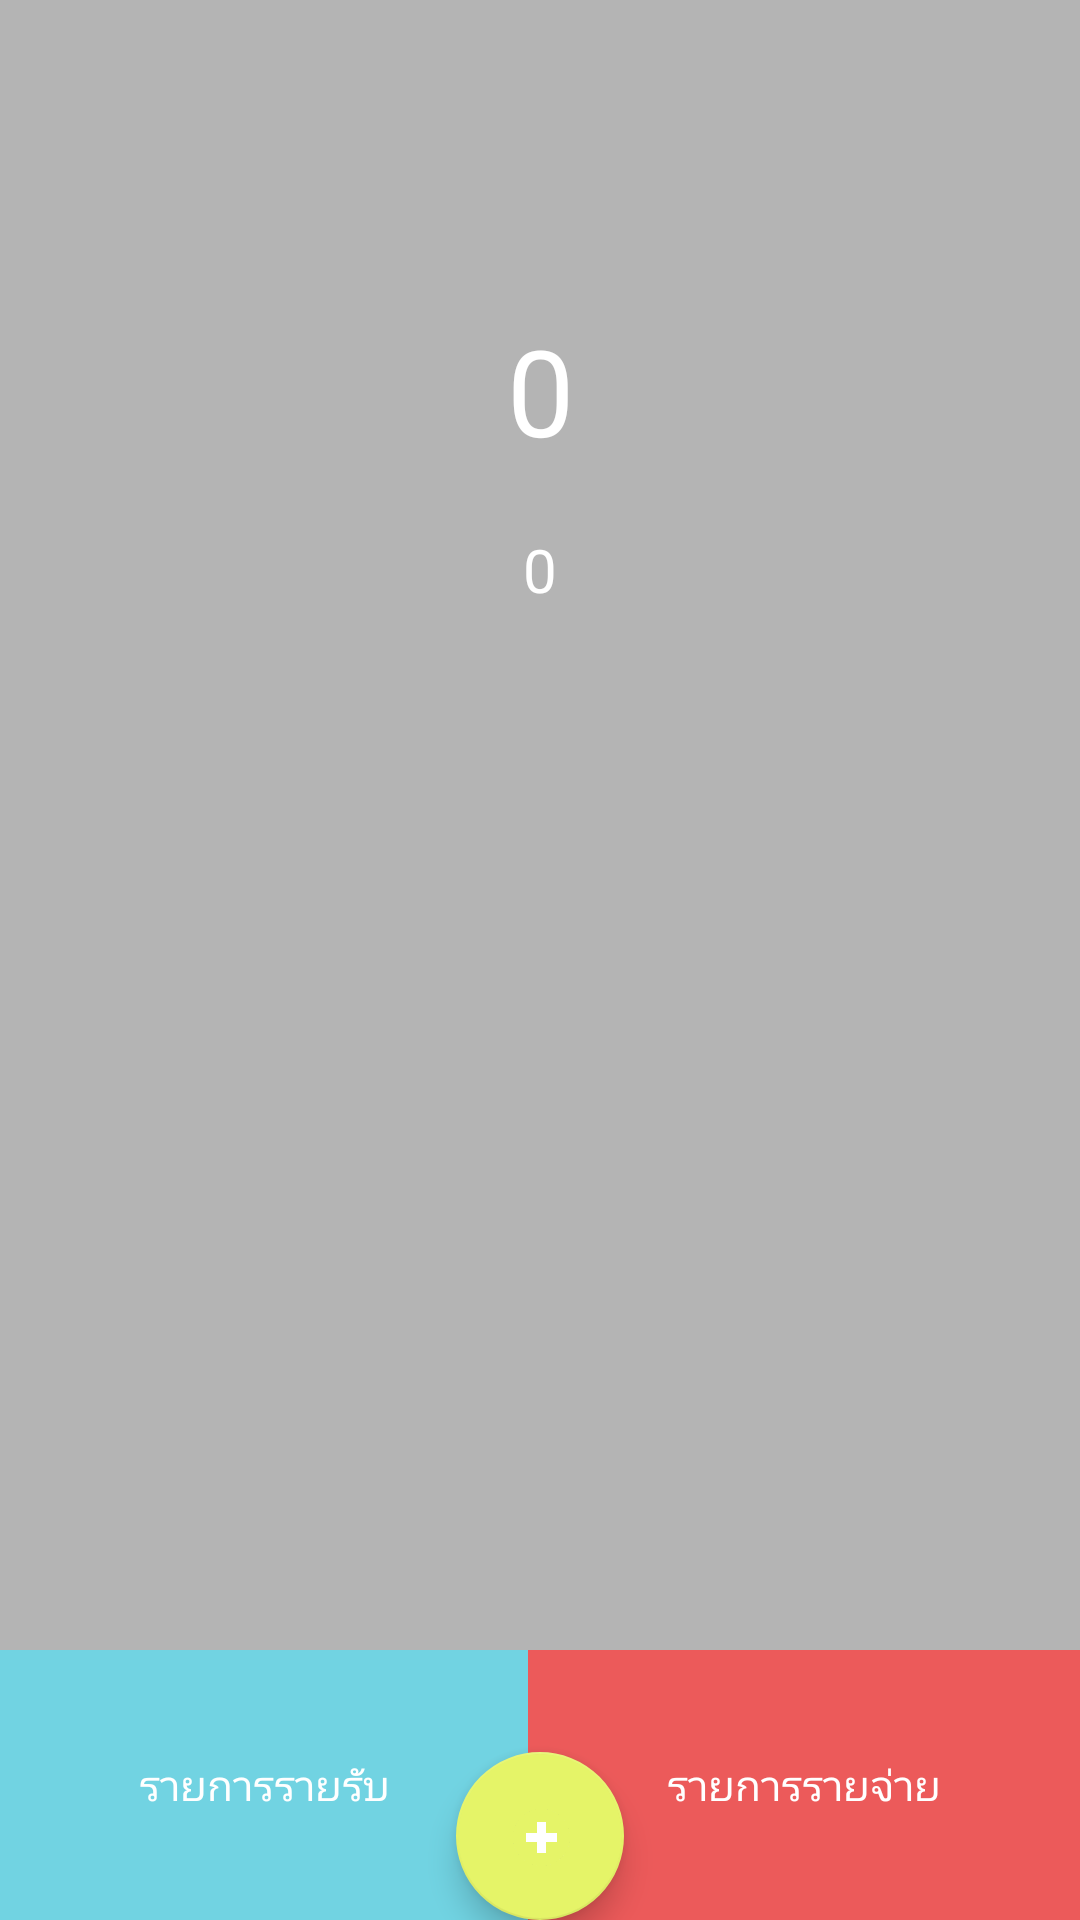

Point at icon controls on the screen. Image size 1080px x 1920px, points as point (x, y).
add: point (540, 1836)
